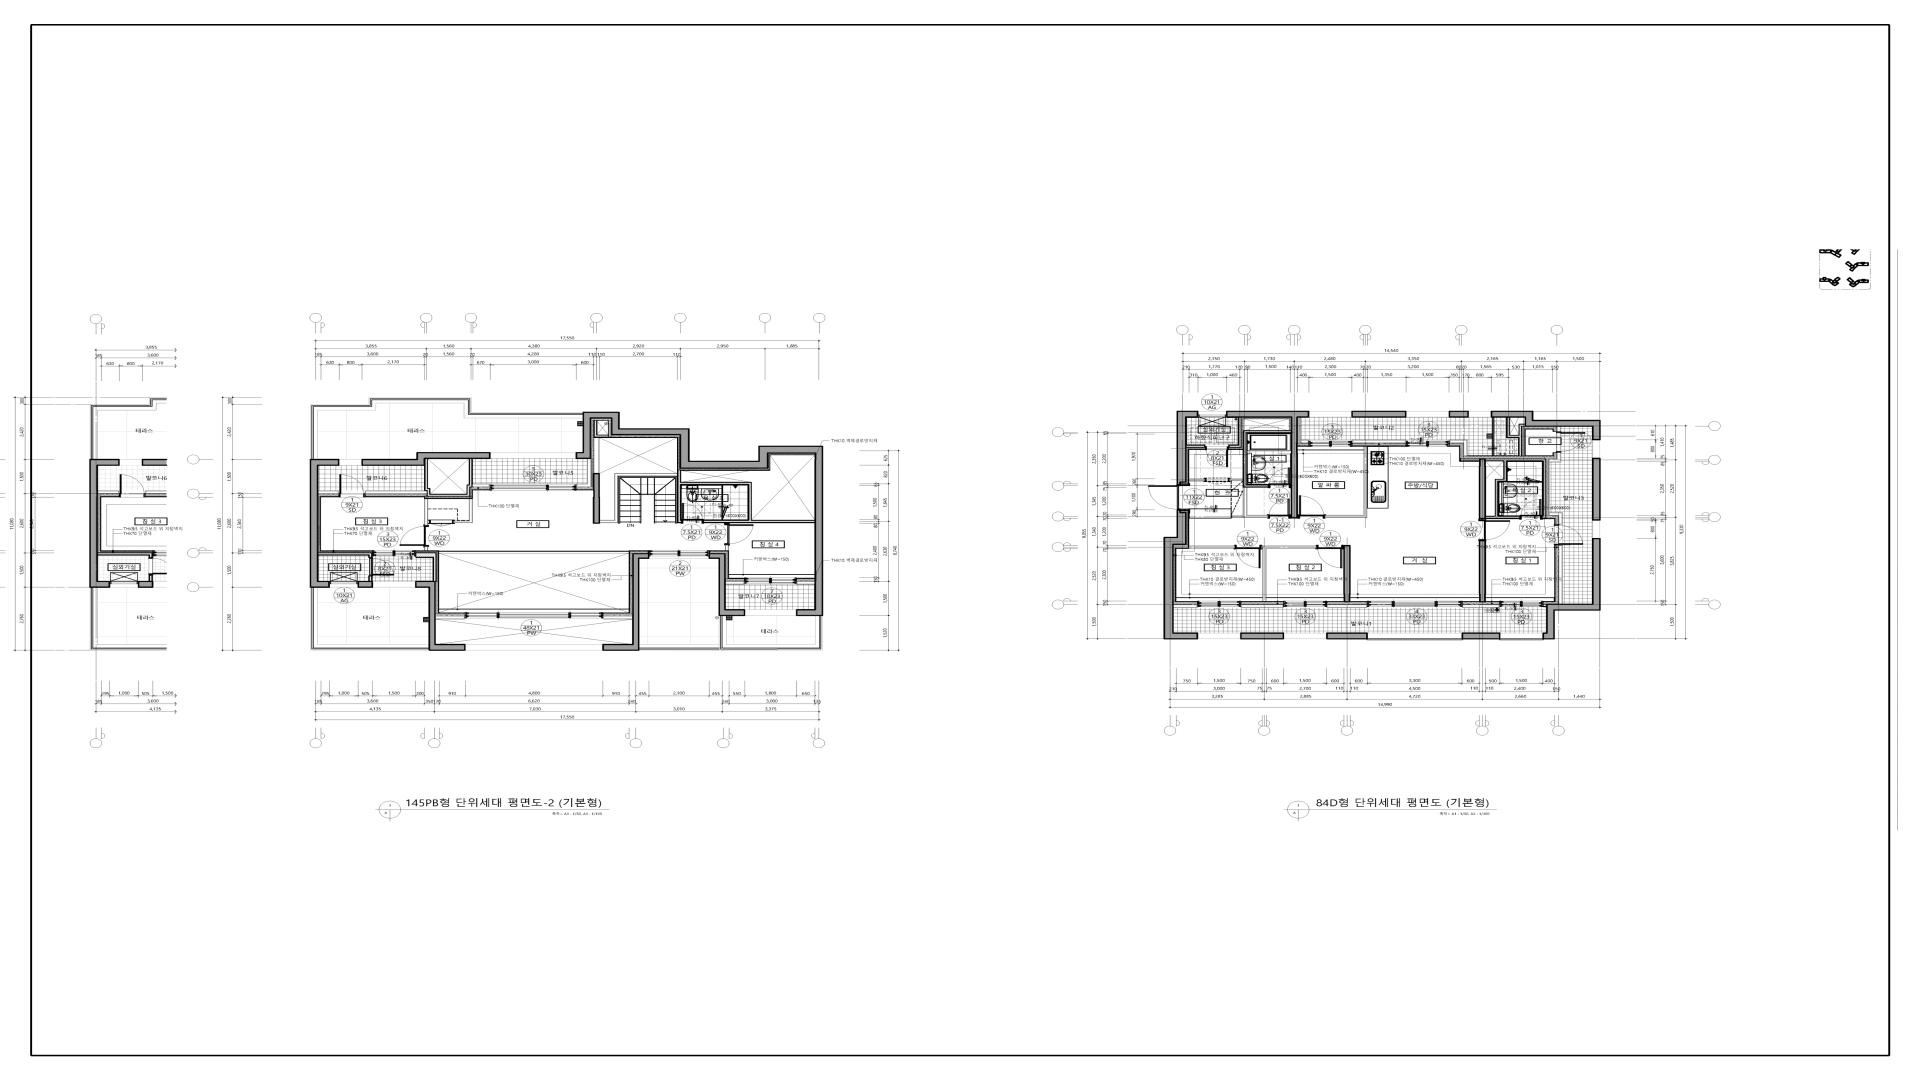door: (1149, 485, 1191, 510), (1478, 520, 1510, 541), (1316, 545, 1344, 568), (1553, 525, 1584, 546), (1236, 545, 1262, 568), (1298, 496, 1325, 518), (1556, 431, 1585, 452), (400, 525, 429, 546), (724, 524, 753, 545), (339, 475, 365, 497), (1205, 446, 1229, 467), (1519, 498, 1542, 520), (369, 558, 394, 576), (1269, 498, 1291, 518), (1269, 468, 1291, 488), (682, 504, 704, 524), (1205, 477, 1229, 485), (429, 520, 454, 526)
wall: (576, 411, 823, 616), (311, 397, 583, 459), (600, 469, 815, 524), (1226, 411, 1309, 518), (311, 588, 429, 650), (640, 616, 823, 650), (1543, 538, 1601, 640), (1229, 430, 1291, 518), (365, 459, 489, 497), (1163, 510, 1199, 640), (603, 554, 649, 651), (310, 459, 339, 588), (1486, 459, 1547, 520), (415, 582, 465, 651), (1491, 411, 1601, 440), (1325, 447, 1367, 518), (1262, 546, 1316, 601), (708, 554, 745, 616), (361, 452, 491, 465), (1176, 410, 1199, 485), (1549, 452, 1563, 525), (593, 421, 609, 473), (1506, 418, 1524, 456), (415, 553, 436, 582), (1592, 458, 1601, 521), (1478, 459, 1486, 520), (1478, 542, 1486, 601), (454, 498, 472, 524), (1228, 418, 1242, 448), (576, 459, 591, 487), (1344, 545, 1350, 603), (1352, 411, 1407, 418), (593, 473, 600, 524), (1240, 633, 1284, 640), (1449, 440, 1468, 456), (319, 553, 372, 558), (1327, 633, 1367, 640), (1461, 633, 1501, 640), (1559, 546, 1563, 604), (1300, 418, 1308, 443), (1352, 440, 1406, 443), (1449, 411, 1469, 418), (435, 616, 465, 620), (1189, 546, 1234, 549), (603, 616, 632, 620), (1241, 605, 1283, 608), (1327, 605, 1367, 608), (357, 582, 373, 588), (1462, 605, 1499, 608), (1174, 604, 1197, 608), (319, 491, 339, 495), (1187, 444, 1205, 448), (425, 498, 427, 525), (725, 582, 745, 584), (1460, 459, 1480, 462), (796, 582, 815, 584), (1189, 479, 1205, 481), (368, 576, 373, 582), (725, 545, 729, 550), (1543, 604, 1547, 608), (1557, 427, 1561, 431), (425, 546, 427, 550)
window: (465, 612, 603, 618), (1367, 633, 1461, 641), (465, 645, 603, 650), (489, 484, 576, 491), (491, 452, 575, 459), (1367, 601, 1462, 607), (649, 550, 708, 558), (745, 578, 796, 584), (1501, 633, 1543, 641), (1308, 440, 1352, 447), (1406, 440, 1449, 447), (373, 550, 415, 556), (745, 611, 796, 616), (1197, 601, 1241, 607), (1283, 601, 1327, 607), (1499, 601, 1543, 607), (1309, 411, 1352, 417), (1407, 411, 1449, 417), (373, 582, 415, 587), (1284, 633, 1327, 638), (1199, 633, 1240, 638), (1199, 411, 1226, 418), (339, 459, 361, 465), (330, 582, 357, 587), (1593, 440, 1600, 458), (1593, 521, 1600, 538), (1469, 411, 1490, 417)
